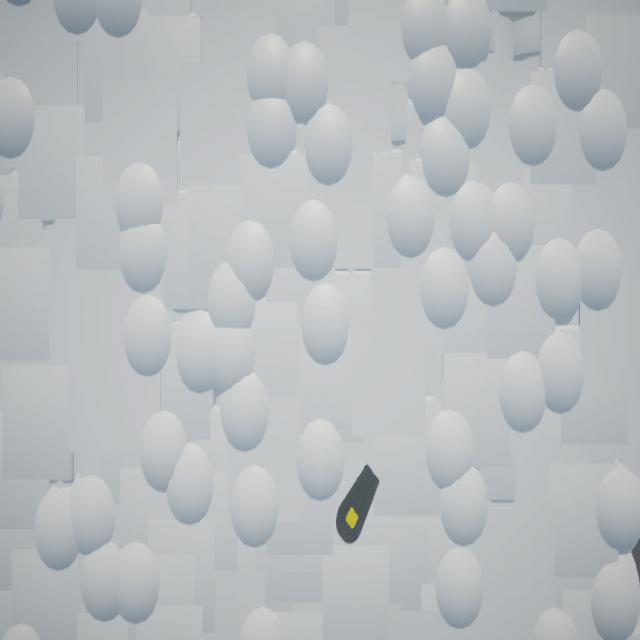handle_folk: (337, 464, 381, 546)
